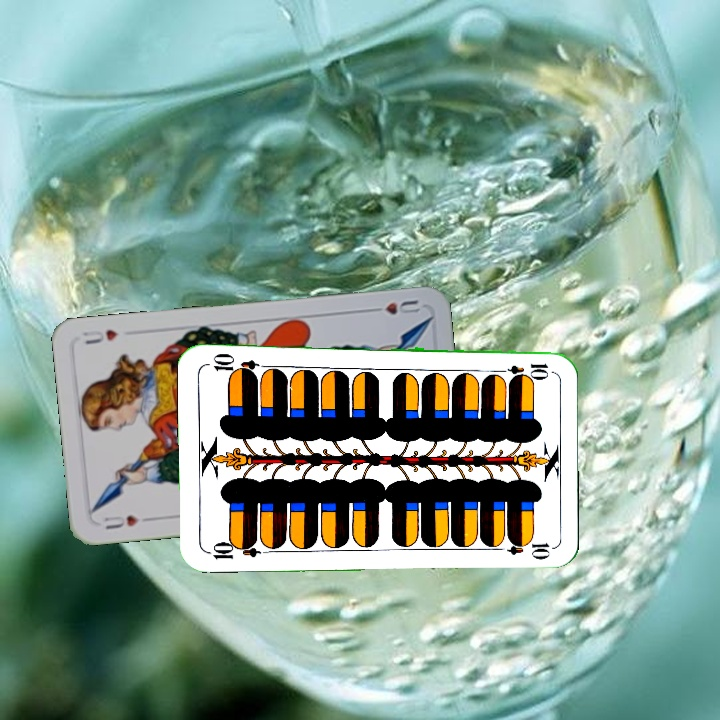E10: (203, 537, 262, 562), (492, 359, 551, 377)
HU: (365, 296, 422, 317), (99, 511, 153, 533)
